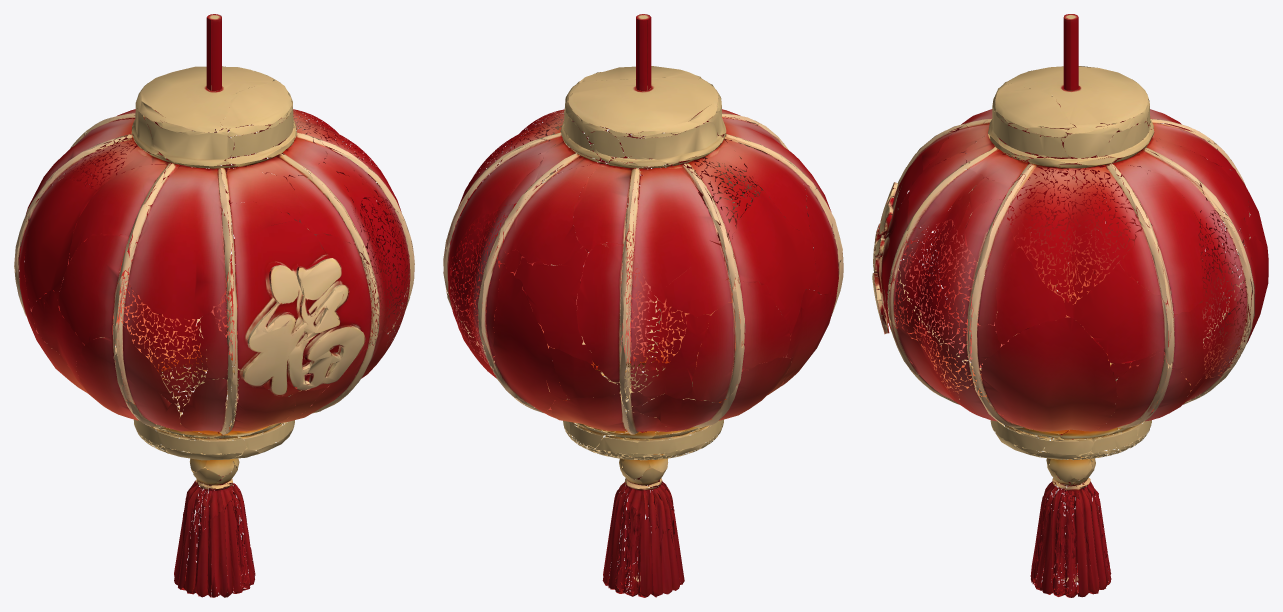
Rendered from lantern.glb.
The picture shows the model from 3 angles, left to right: view 1: azimuth 30°, elevation 25°; view 2: azimuth 150°, elevation 25°; view 3: azimuth 270°, elevation 25°; orthographic projection.
Visible parts, largest first — view 1: node_0; view 2: node_0; view 3: node_0.
Boxes of the visible parts, x1,y1,x2,y2 form: node_0: (14,14,414,597); node_0: (443,14,843,597); node_0: (872,14,1268,597).
Bounding box in the file's own units: 0.7358 × 1.19 × 0.7576.
1 material, 1 textured.
